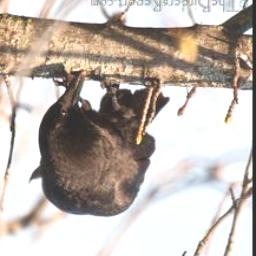Crow: (25, 70, 172, 219)
